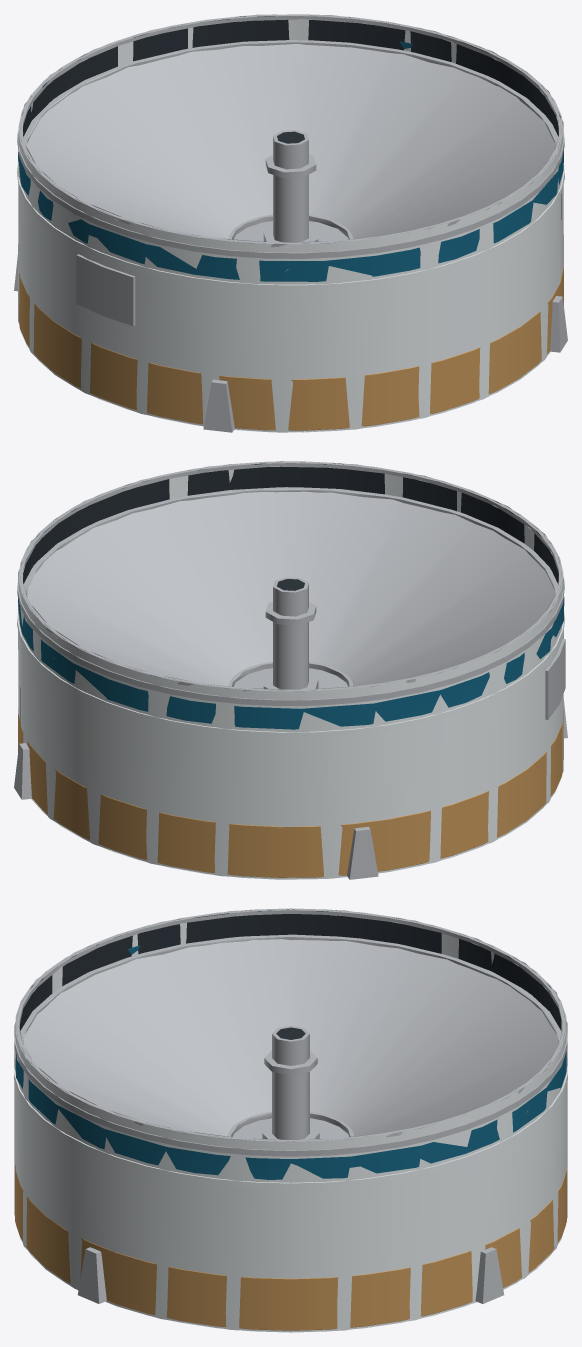
Rendered from mount_s1_1_d84.glb.
The picture shows the model from 3 angles, top to bottom: view 1: azimuth 30°, elevation 25°; view 2: azimuth 150°, elevation 25°; view 3: azimuth 270°, elevation 25°; orthographic projection.
Visible parts, largest first — view 1: mount_s1_1_d84_mesh; view 2: mount_s1_1_d84_mesh; view 3: mount_s1_1_d84_mesh.
Part boxes in pixels (bbox=[...]): mount_s1_1_d84_mesh: bbox=[14, 14, 567, 432]; mount_s1_1_d84_mesh: bbox=[14, 461, 567, 879]; mount_s1_1_d84_mesh: bbox=[14, 908, 567, 1332].
Size of the model in its own units: 8.45 by 3.2 by 8.43.
